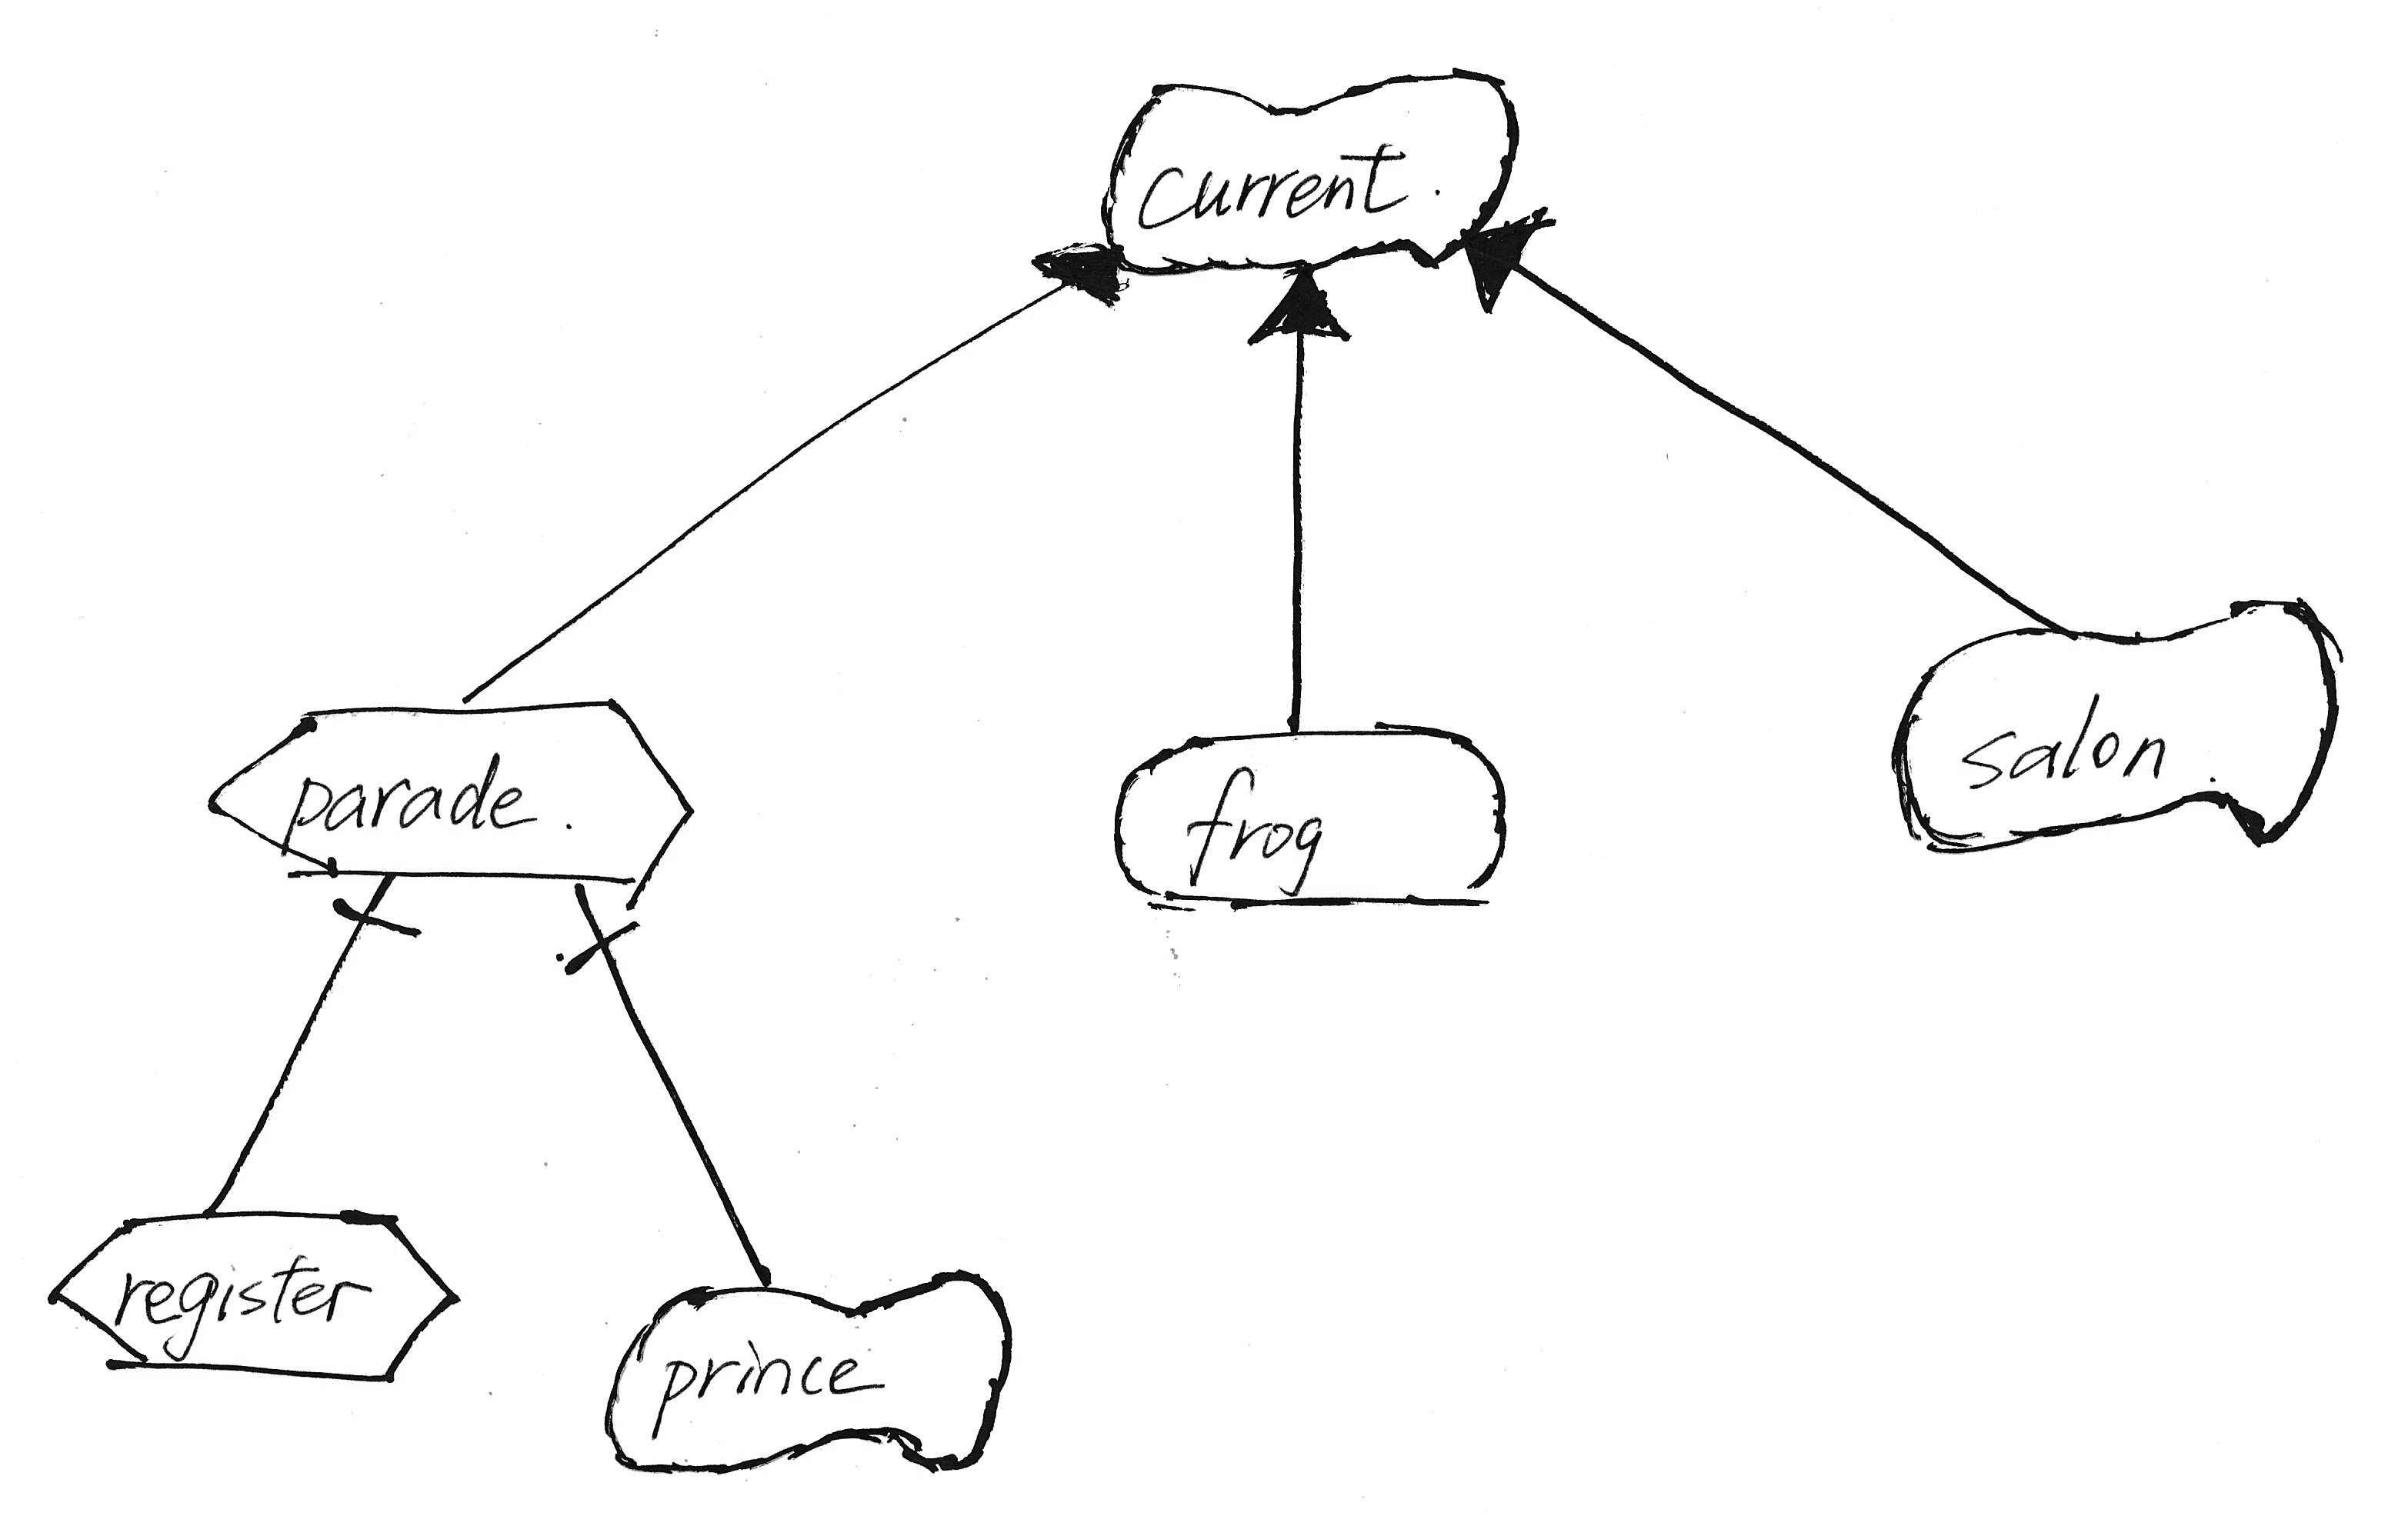and: (325, 859, 428, 959), (555, 866, 644, 980)
goal: (1097, 702, 1529, 931)
or: (1457, 196, 1560, 314), (1243, 256, 1358, 356), (1034, 217, 1137, 326)
quality: (1871, 584, 2355, 870), (1079, 51, 1532, 289), (591, 1251, 1027, 1489)
task: (193, 682, 713, 916), (32, 1187, 474, 1398)
